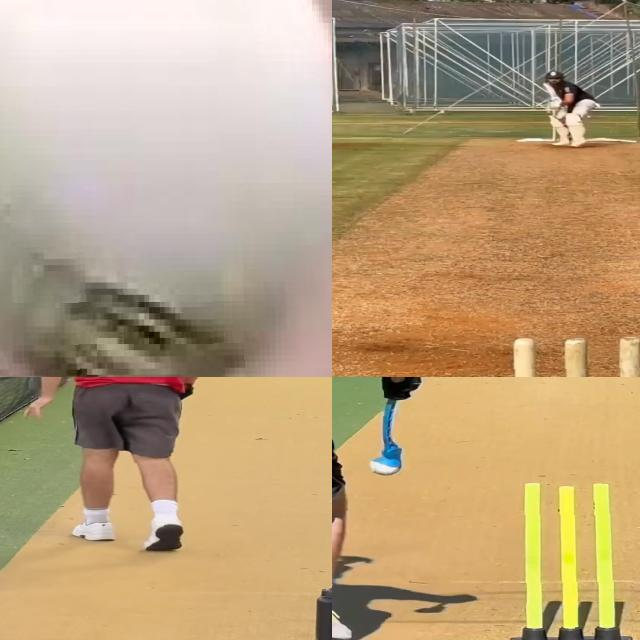Cricket ball: (0, 0, 332, 377)
Stumps: (504, 480, 634, 640), (506, 335, 640, 377)
